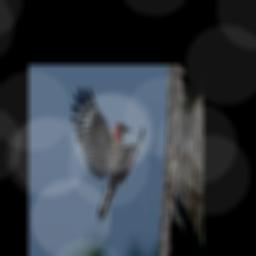Woodpecker: (70, 86, 144, 223)
